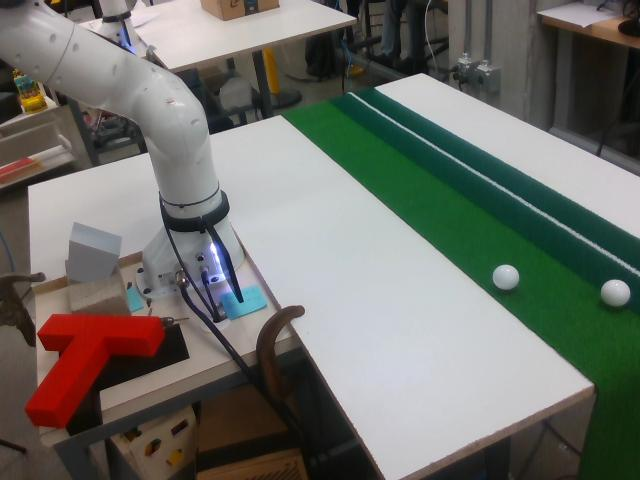golf_balls: (601, 280, 630, 307), (493, 265, 519, 290)
